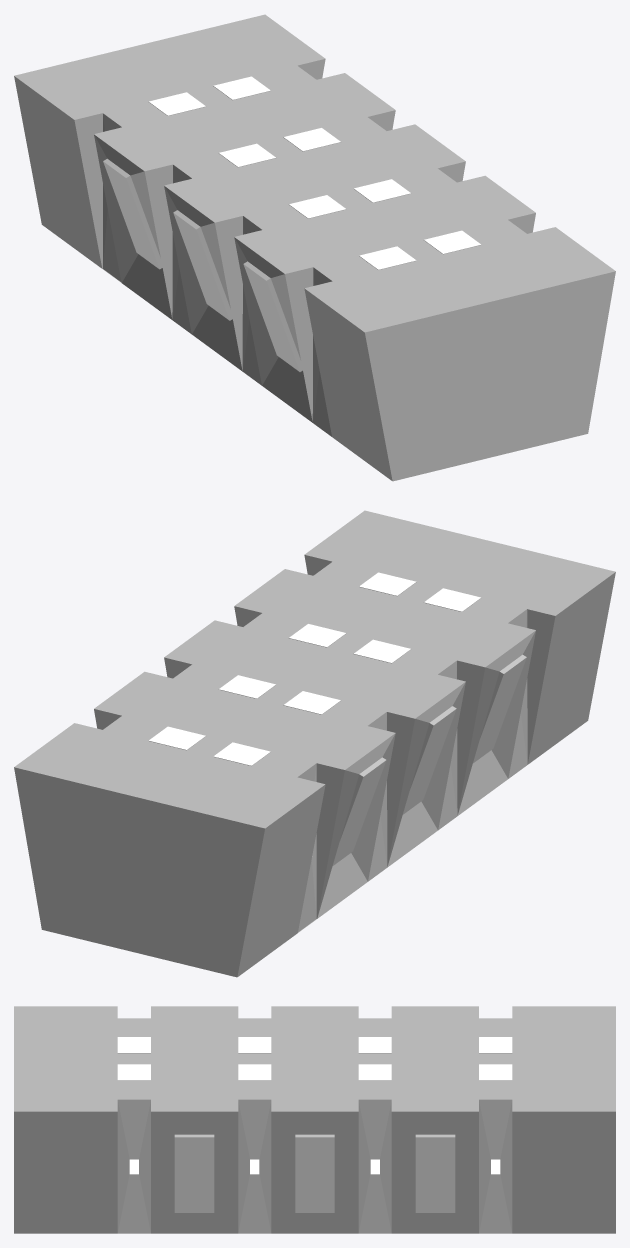
The model's file is Room.fbx.
The picture shows the model from 3 angles, top to bottom: view 1: azimuth 30°, elevation 25°; view 2: azimuth 150°, elevation 25°; view 3: azimuth 270°, elevation 25°; orthographic projection. The views are drawn at different scales.
Visible parts, largest first — view 1: Cube; view 2: Cube; view 3: Cube.
Boxes of the visible parts, x1,y1,x2,y2 form: Cube: [14, 14, 615, 481]; Cube: [14, 510, 615, 977]; Cube: [14, 1006, 615, 1233].
Bounding box in the file's own units: 344 × 201 × 817.
Materials: 1 (1 with a texture image).
